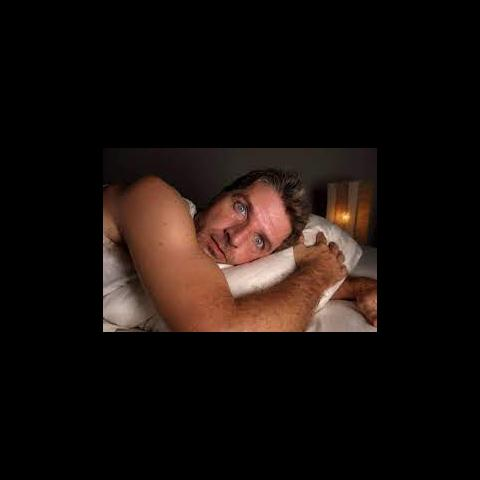opened: (226, 194, 270, 255)
